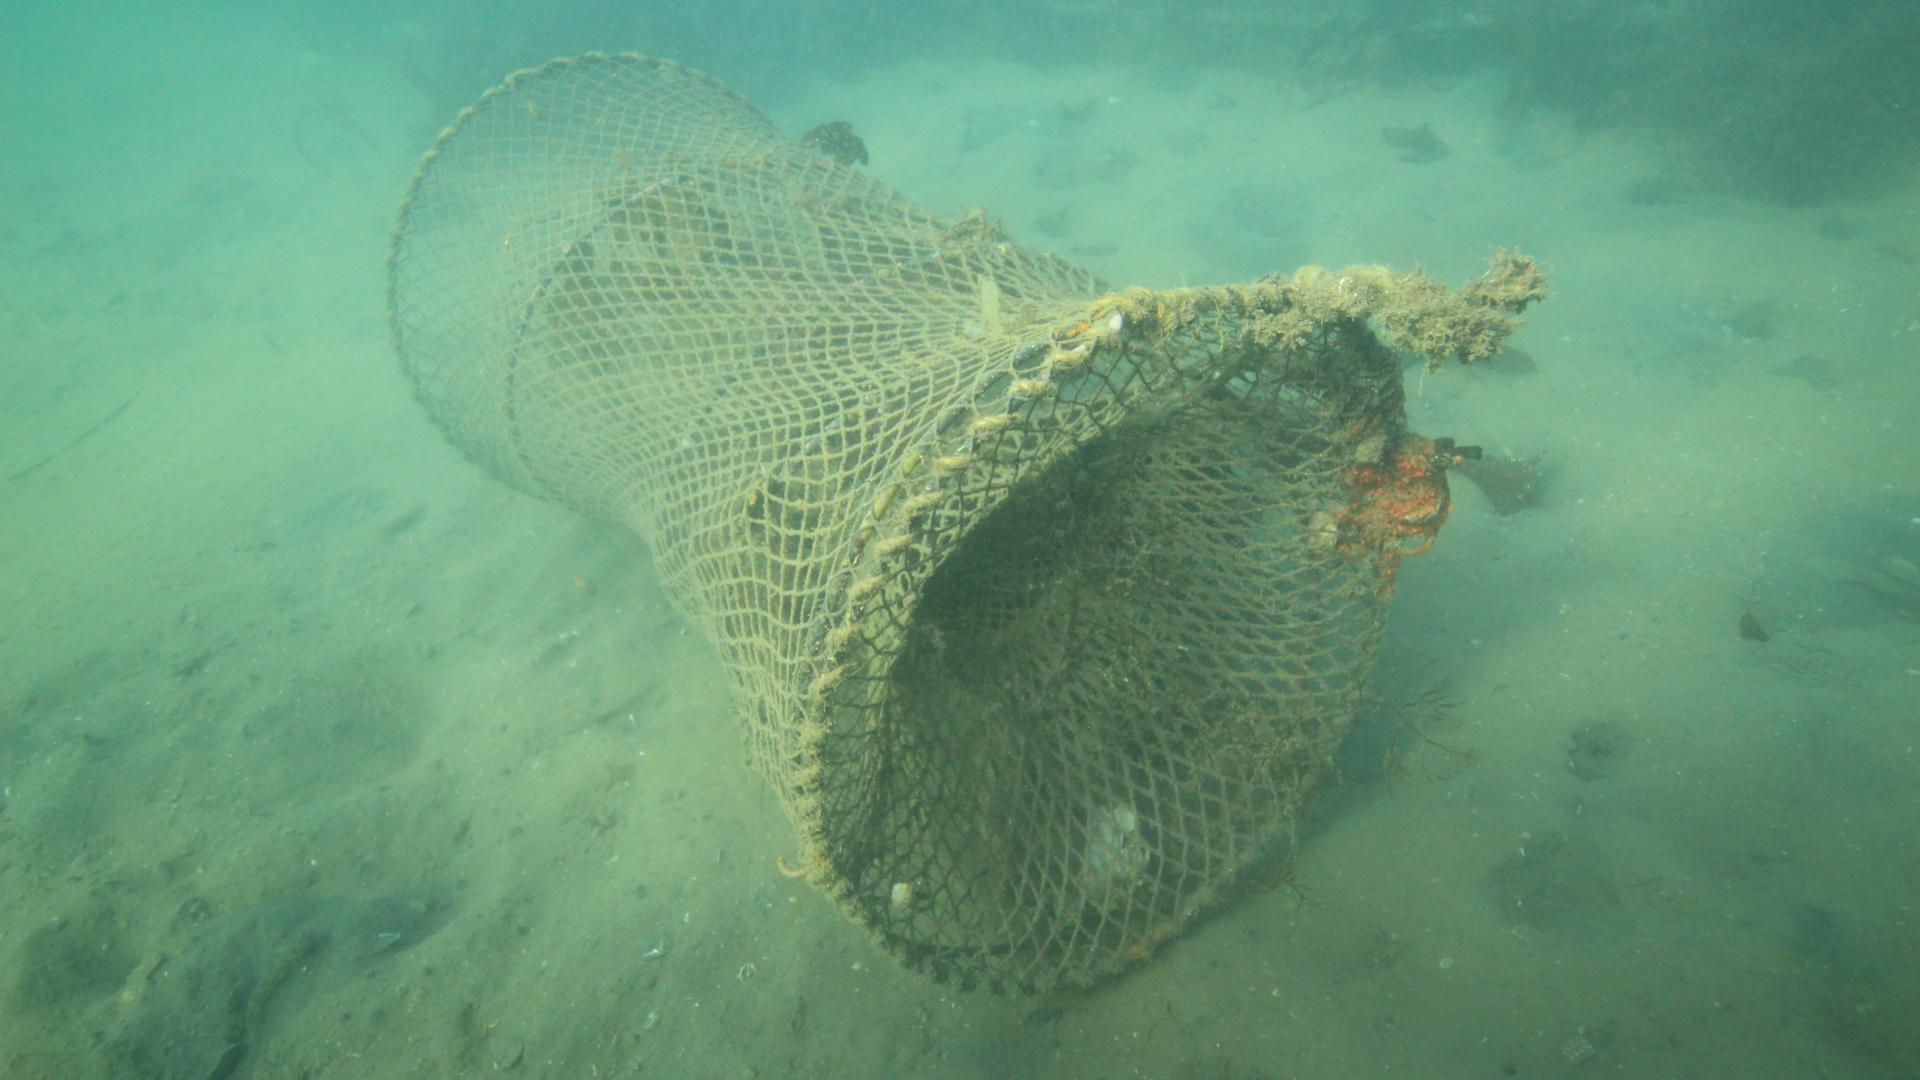spring fish trap: (385, 49, 1406, 1002)
